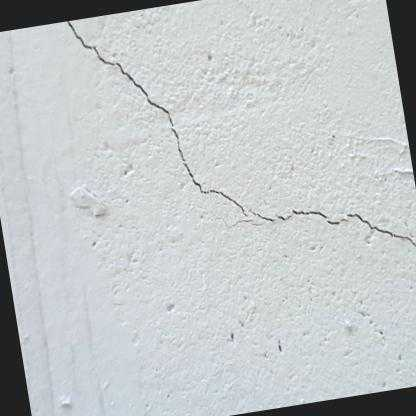crack: (65, 20, 247, 216), (345, 213, 416, 249), (249, 210, 290, 221), (291, 208, 325, 217), (325, 217, 346, 223)
